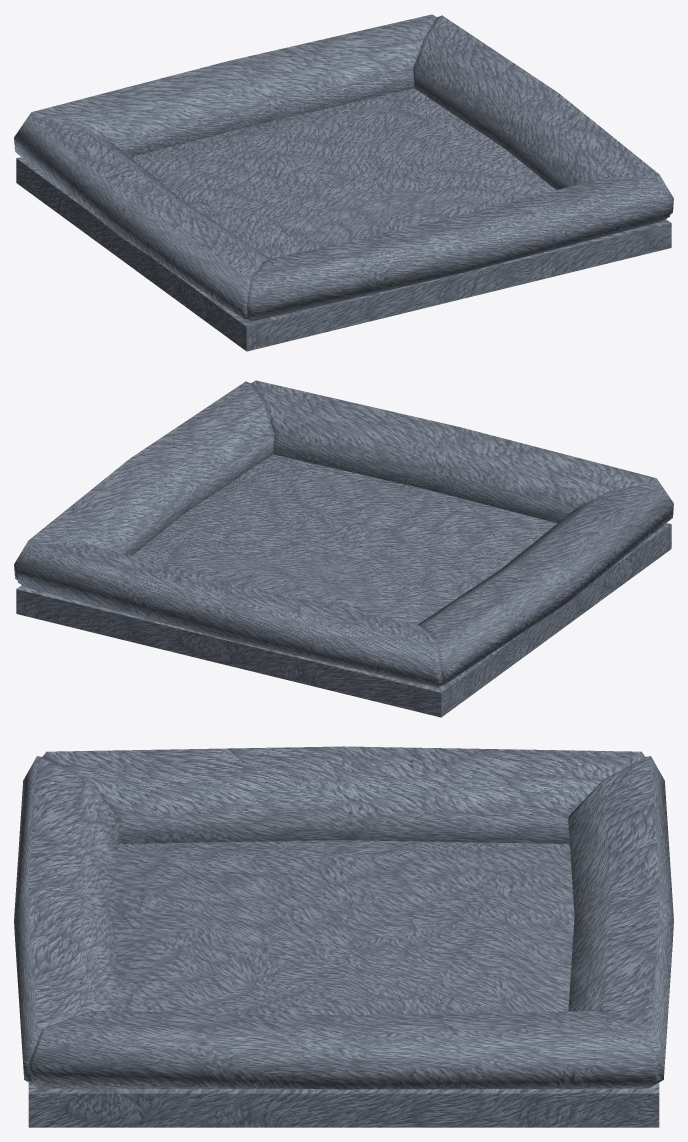
The model's file is PetBed.glb.
3 renders of one model, top to bottom at view 1: azimuth 30°, elevation 25°; view 2: azimuth 150°, elevation 25°; view 3: azimuth 270°, elevation 25°, orthographic. The views are drawn at different scales.
Parts seen in each view (by area): view 1: PetBed; view 2: PetBed; view 3: PetBed.
Part boxes in pixels (x1,y1,x2,y2): PetBed: (14, 14, 673, 351); PetBed: (14, 380, 673, 717); PetBed: (14, 746, 673, 1127).
Size of what is drawn, in the model's own units: 1.99 by 0.2966 by 1.85.
Materials: 1 (1 with a texture image).
